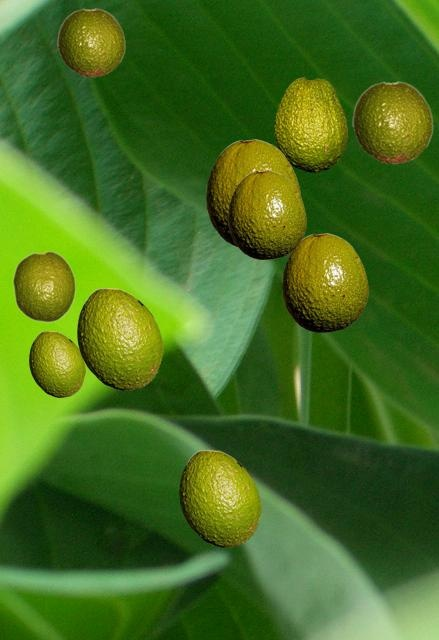avocado: (206, 139, 300, 247), (77, 288, 162, 389), (282, 233, 367, 331), (179, 450, 260, 546), (228, 170, 305, 258), (274, 77, 346, 171), (352, 81, 433, 163), (57, 8, 125, 76), (12, 250, 75, 322), (29, 331, 84, 396)
